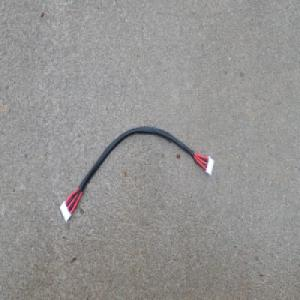Wire: (58, 124, 215, 223)
